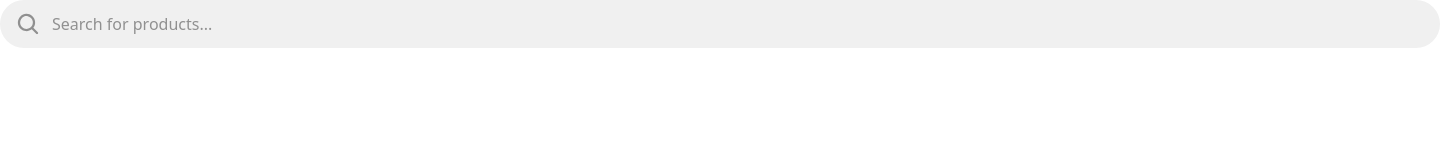
Test case: SearchBox outside the shop page › says so when nothing matches
Step 1. Type "xyzq" into the dropdown labelled "Search for products" → coordinates (738, 24), box top-left (52, 12), bottom-right (1424, 36)
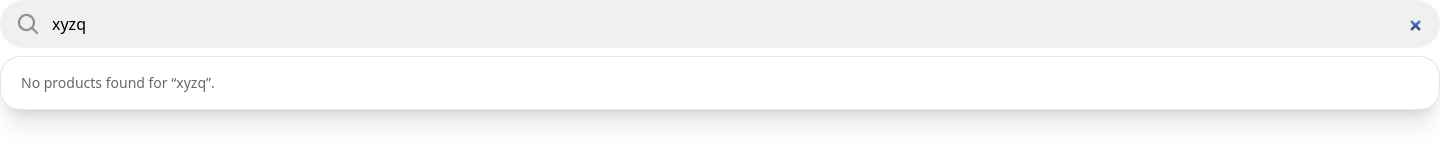
Expected: the message reads "No products found for “xyzq”.", top-left (21, 73), bottom-right (215, 92)
